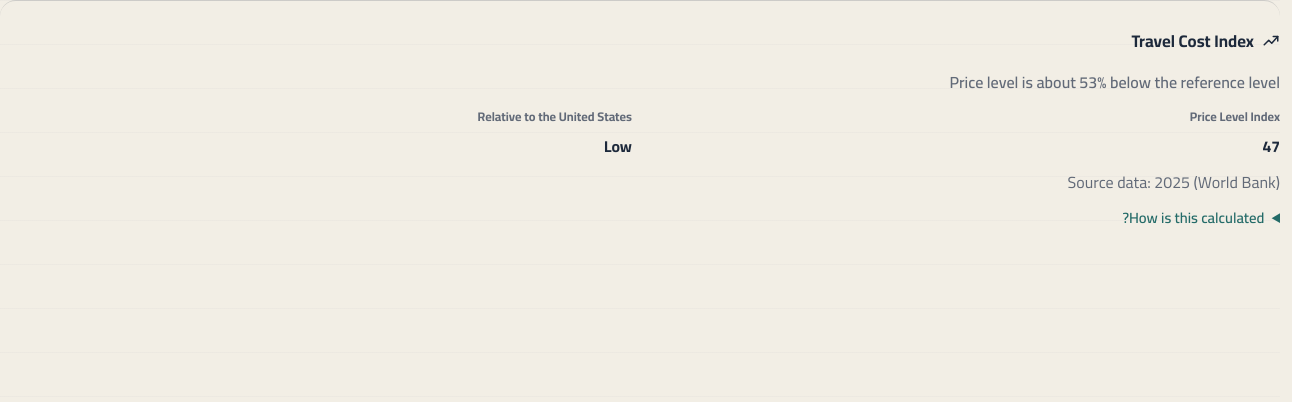
Test: Composition-refinement pass — Travel Cost <details> disclosure (concise by default, full text one tap away) › never removed any factual content — US=100 semantics, the "not a score/budget/price" caveat, and source attribution are all still reachable
expect the heading "Travel Cost Index" is shown: met, box [1132,25,1280,57]
What coordinates should you click on to do the following:
click the heading "How is this calculated?"
I would click on:
 (1193, 217)
Its box is [1122,204,1264,231].
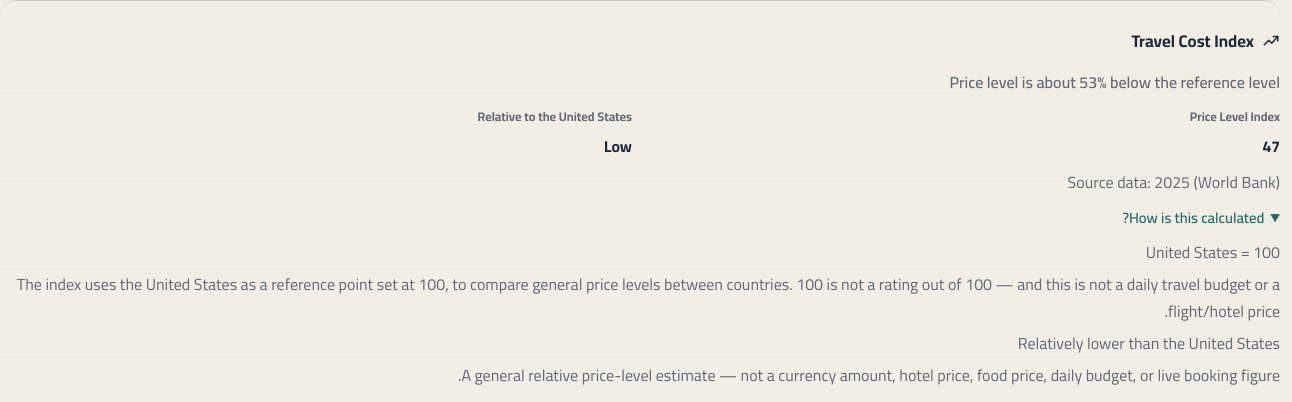
expect the text "Source data: 2025 (World Bank)" is shown: met, box [1068,167,1280,197]
expect the text "United States = 100" is shown: met, box [1146,237,1280,267]
expect the text "not a daily travel budget or a flight/hotel price" is shown: met, box [17,269,1280,326]
